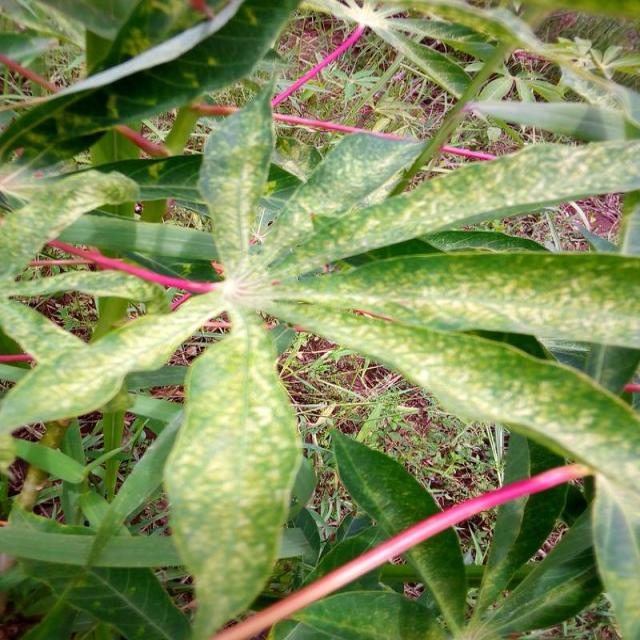cassava leaf: (2, 2, 640, 637), (162, 316, 304, 637)
